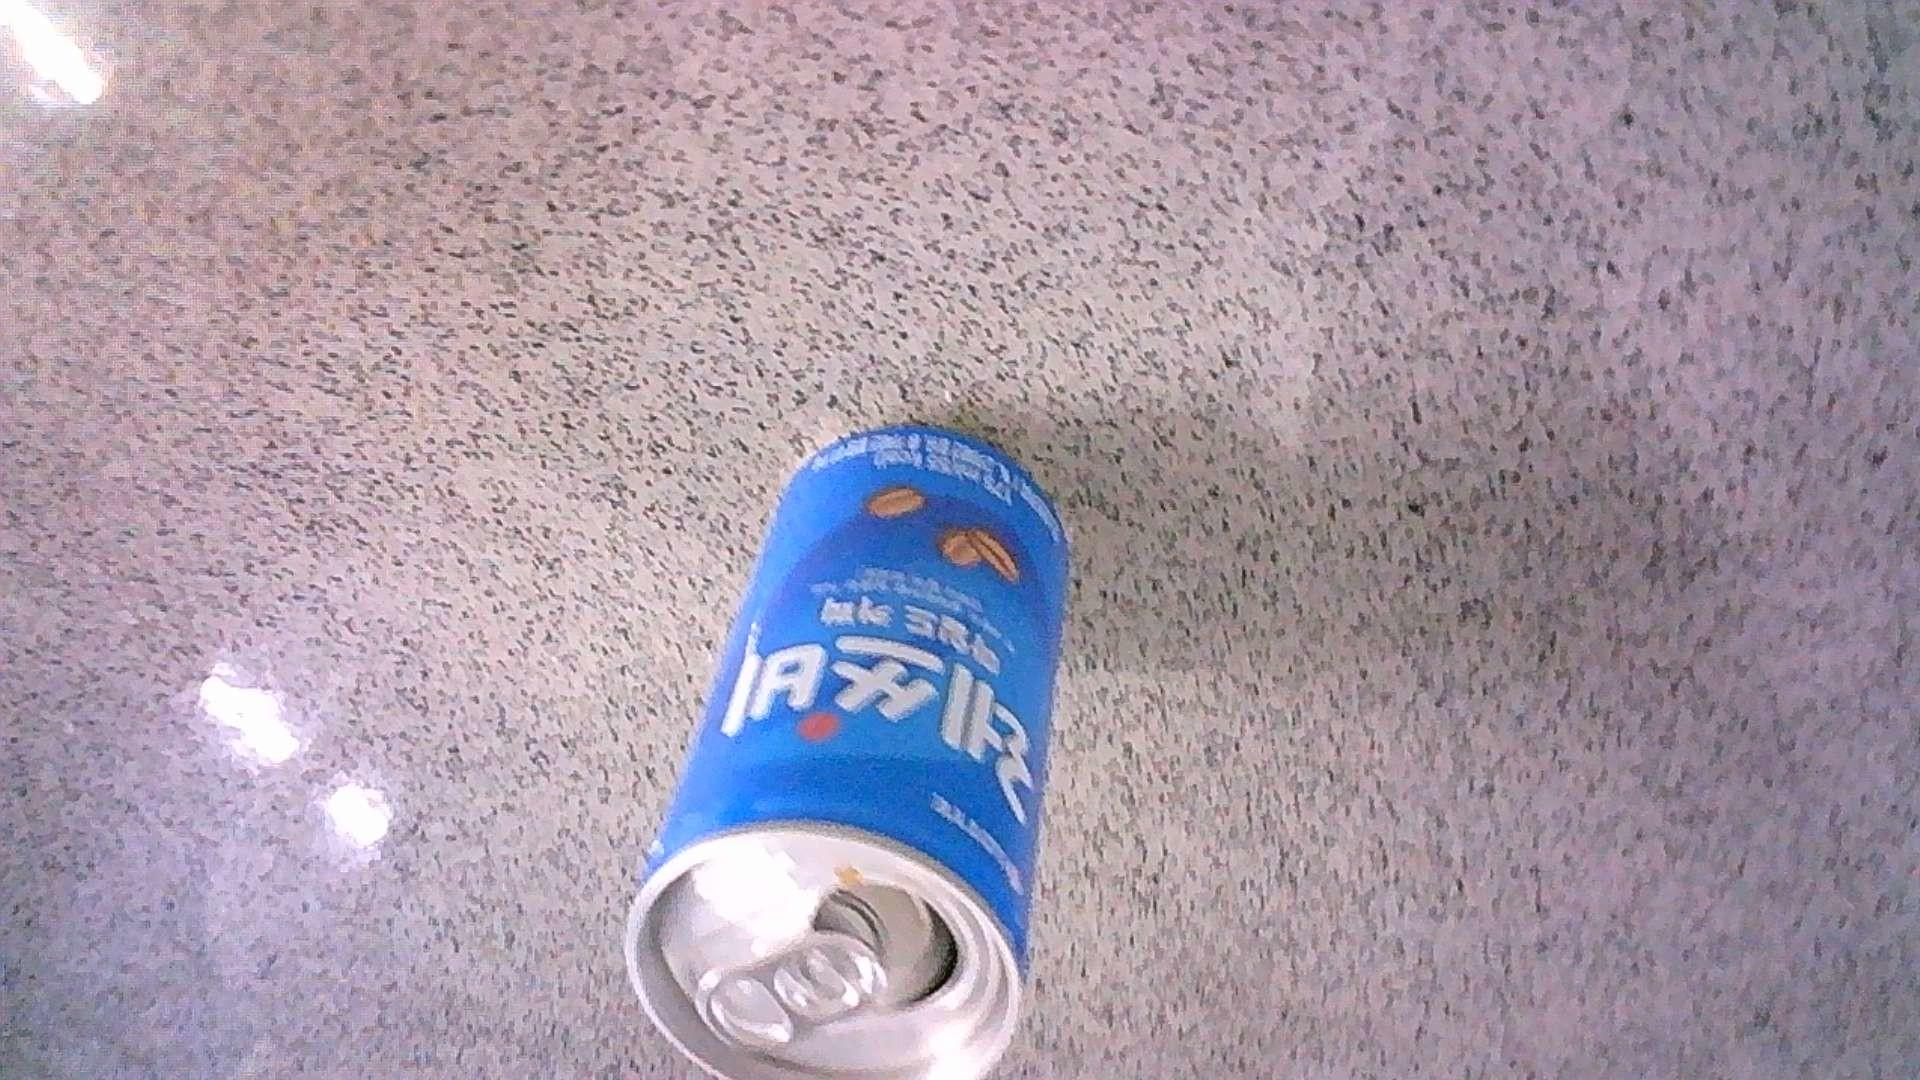letsbe: (622, 421, 1071, 1080)
